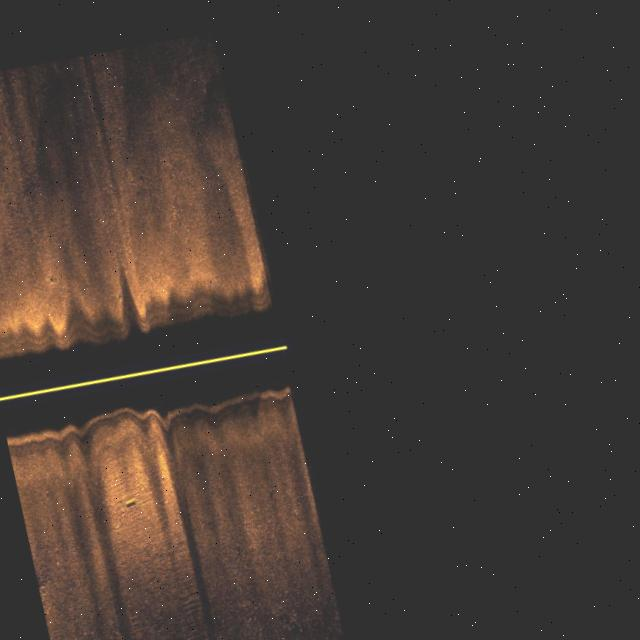mine: (124, 491, 142, 508)
